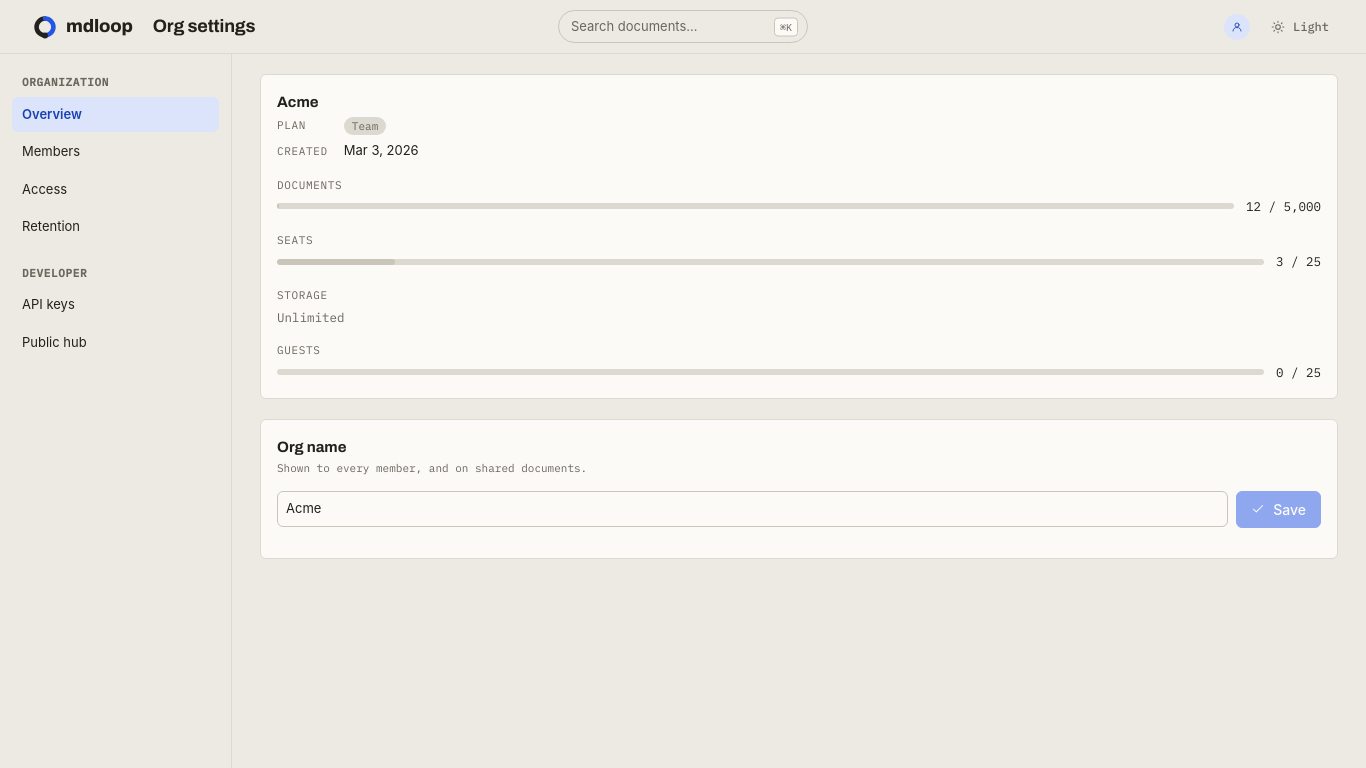
OrgSettings › sends an invite and shows the one-time accept link
Click the button "Members": (116, 152) left=12, top=134, right=219, bottom=170
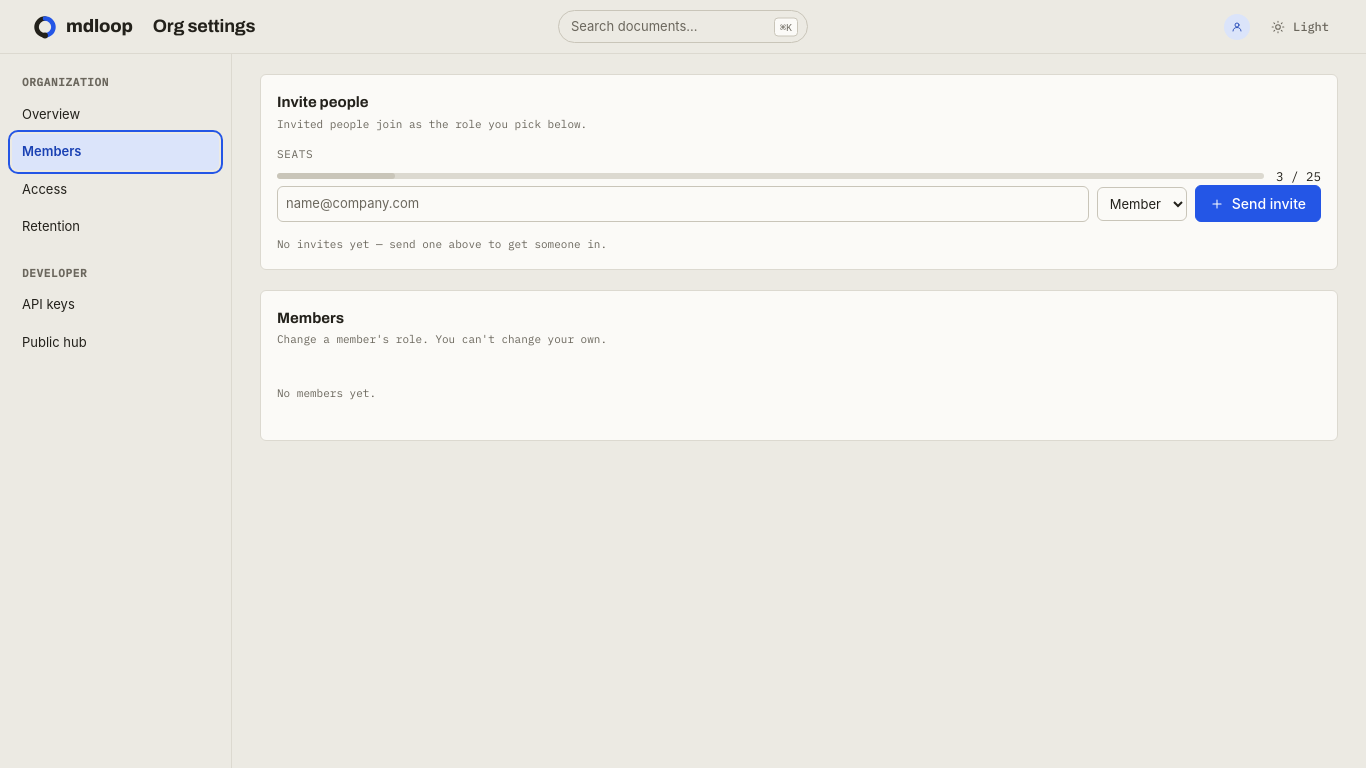
In the field named "Email to invite": (683, 204) left=277, top=186, right=1089, bottom=222, type "friend@co.com"
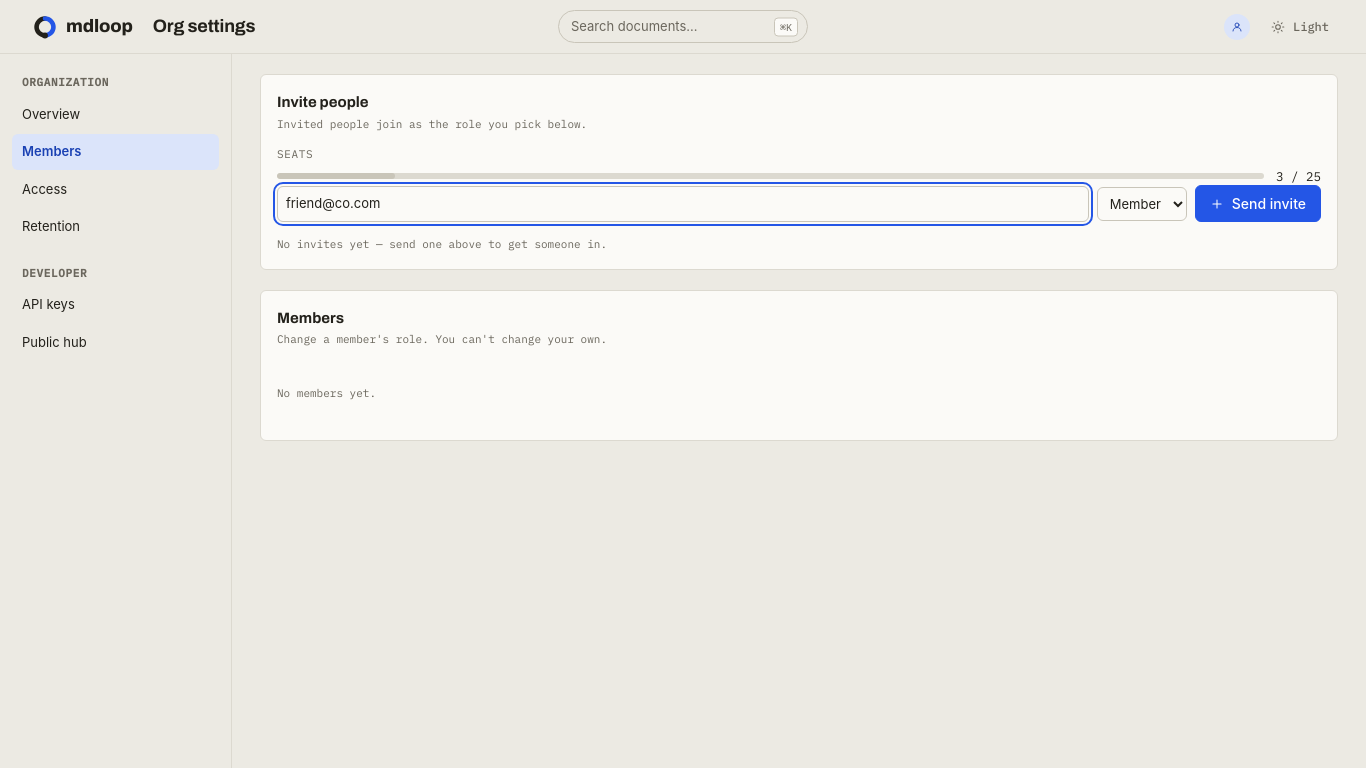
Click the button "Send invite": (1258, 204) left=1195, top=185, right=1321, bottom=222
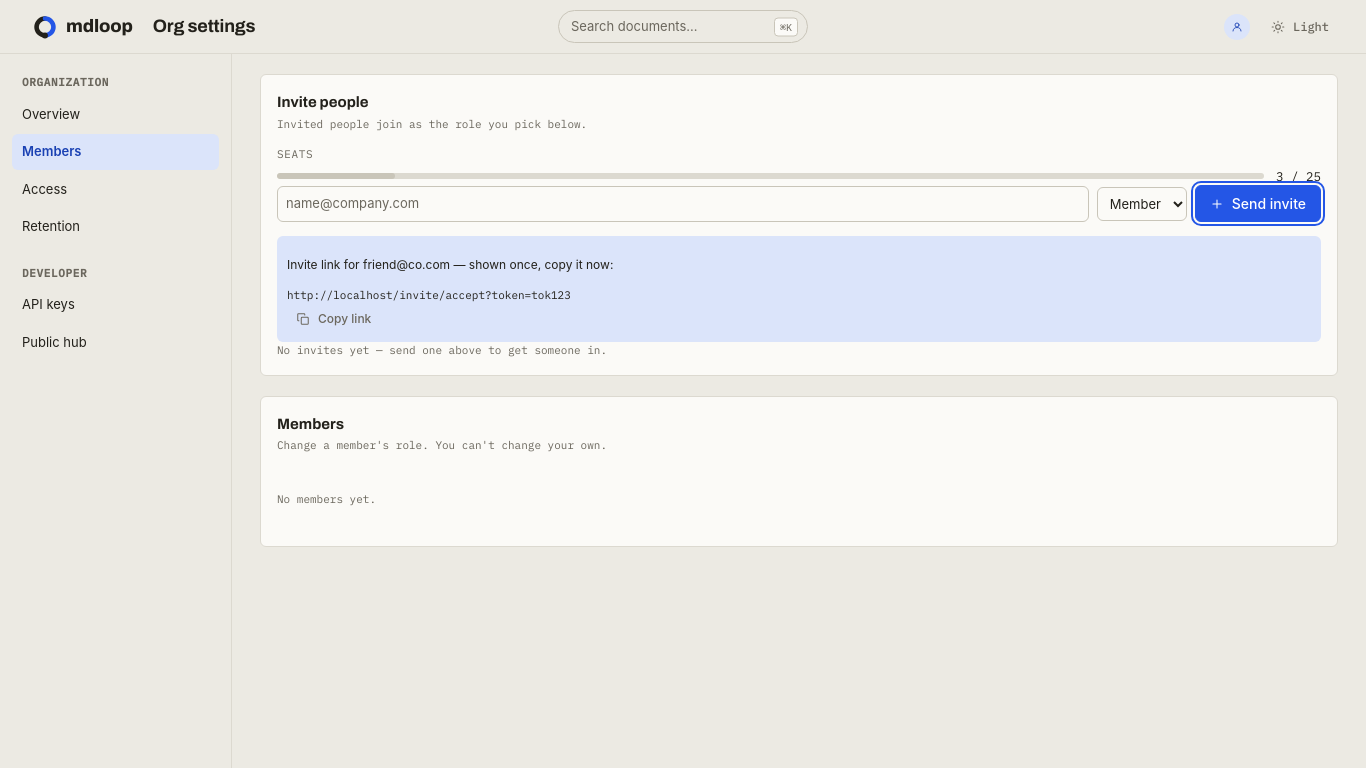
Expected: the element with test id "invite-token" shows "/invite/accept?token=tok123", left=287, top=288, right=571, bottom=302
